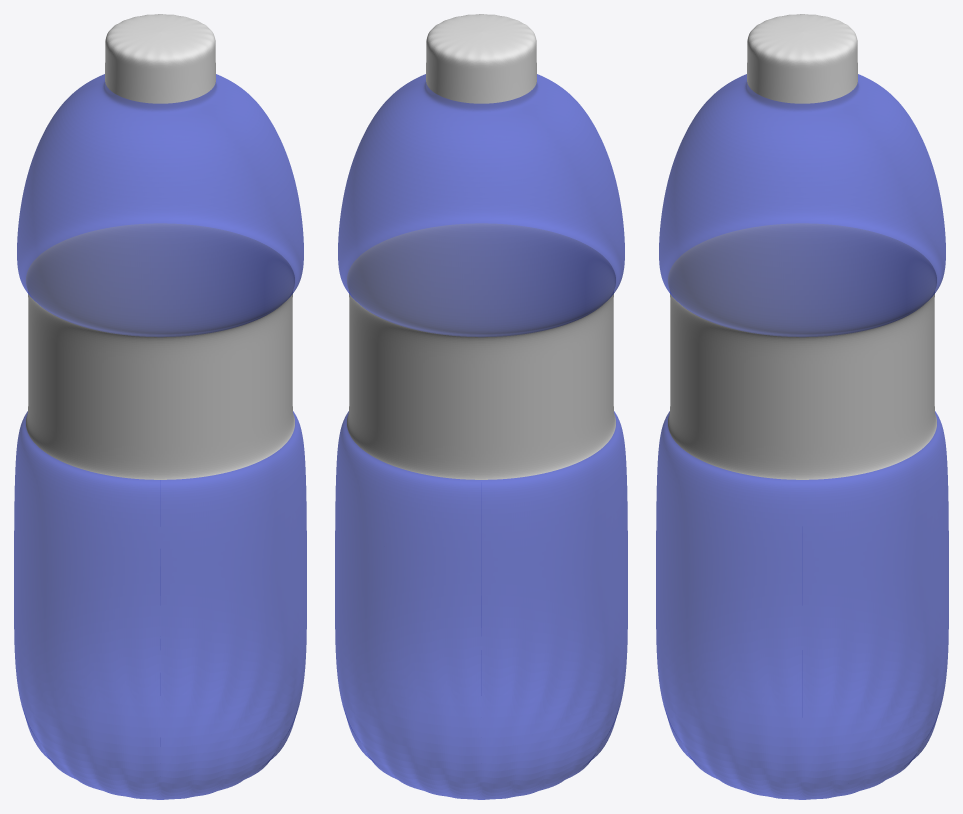
3 renders of one model, left to right at view 1: azimuth 30°, elevation 25°; view 2: azimuth 150°, elevation 25°; view 3: azimuth 270°, elevation 25°, orthographic.
Visible parts, largest first — view 1: 柱体; view 2: 柱体; view 3: 柱体.
Boxes of the visible parts, box(x1,y1,x2,y2) form: 柱体: box(14, 14, 306, 799); 柱体: box(335, 14, 627, 799); 柱体: box(656, 14, 948, 799).
Size of the model in its own units: 198 by 559 by 198.
